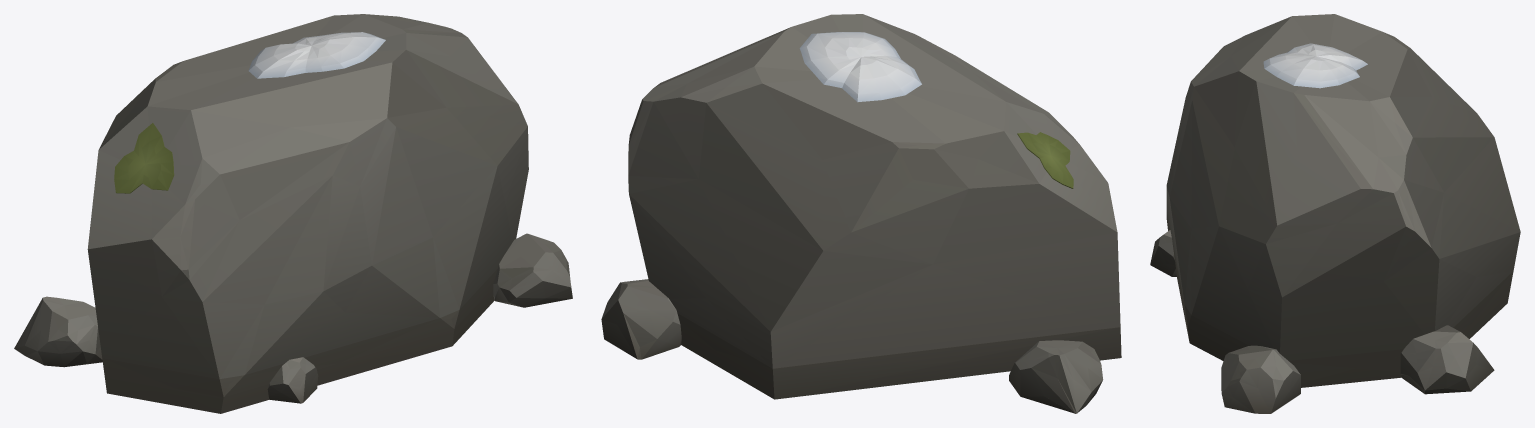
Rendered from moraine-boulder.glb.
3 renders of one model, left to right at view 1: azimuth 30°, elevation 25°; view 2: azimuth 150°, elevation 25°; view 3: azimuth 270°, elevation 25°, orthographic. The views are drawn at different scales.
Visible parts, largest first — view 1: moraine_boulder; view 2: moraine_boulder; view 3: moraine_boulder.
Boxes of the visible parts, x1=… form: moraine_boulder: x1=14, y1=14, x2=572, y2=413; moraine_boulder: x1=601, y1=14, x2=1121, y2=413; moraine_boulder: x1=1150, y1=14, x2=1520, y2=413.
Bounding box in the file's own units: 1.51 × 0.8111 × 1.06.
